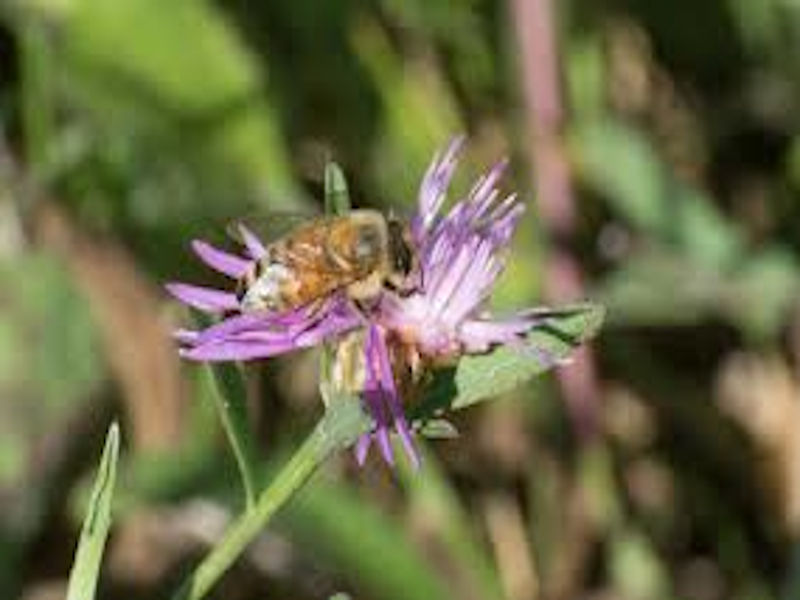abeja: (212, 123, 443, 363)
